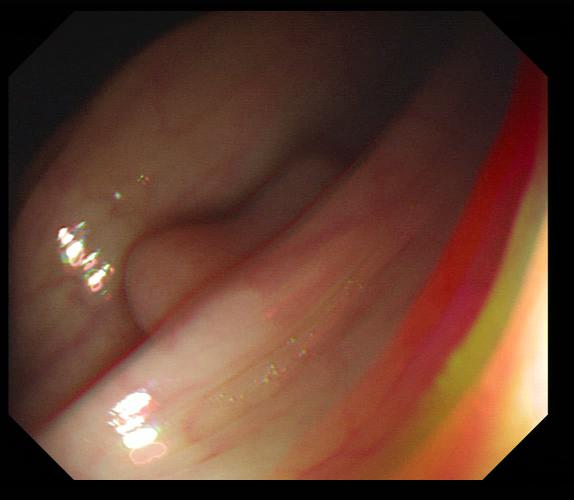polyp: (125, 159, 342, 339)
